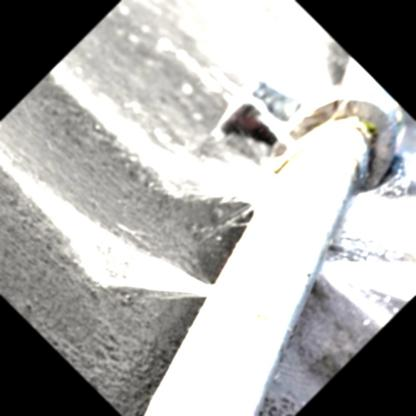burst: (314, 192, 359, 282), (180, 273, 231, 319)
